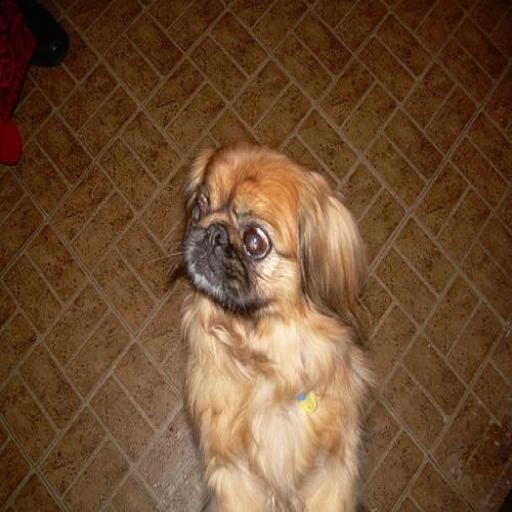dog_face: (178, 149, 361, 321)
